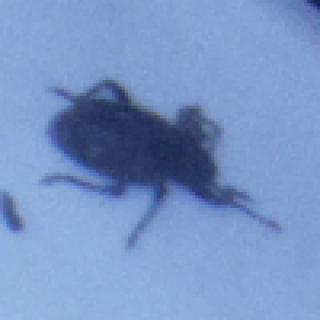bvw: (43, 80, 284, 253)
